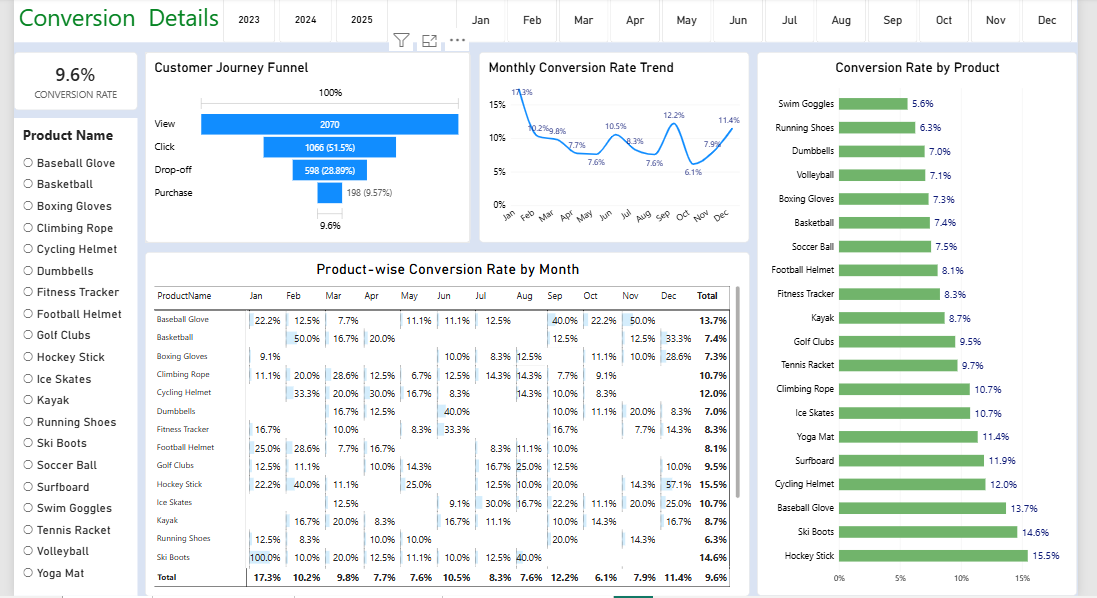

The dashboard page shown, as its layout file describes it:
{"tool":"powerbi","page":{"name":"Conversion Details","canvas":[1920,1080],"ordinal":1},"visuals":[{"type":"shape","box":[0,0,1920,80],"z":0},{"type":"listSlicer","title":"Product Name","fields":{"Values":["dim_products.ProductName"]},"box":[0,217.5,222.5,862.5],"z":1000},{"type":"card","fields":{"Values":["dim_customers.CONVERSION RATE"]},"box":[0,98,222.5,105],"z":2000},{"type":"lineChart","title":"Monthly Conversion Rate Trend","fields":{"Category":["Calendar.MonthNameShort"],"Y":["dim_customers.CONVERSION RATE"]},"box":[840,98,488,344],"z":3000},{"type":"advancedSlicerVisual","fields":{"Values":["Calendar.Year"]},"box":[377.5,0,300,80],"z":4000},{"type":"advancedSlicerVisual","fields":{"Values":["Calendar.MonthNameShort"]},"box":[797.5,0,1122.5,80],"z":5000},{"type":"clusteredBarChart","title":"Conversion Rate by Product","fields":{"Category":["dim_products.ProductName"],"Y":["dim_customers.CONVERSION RATE"]},"box":[1342,98,578,982],"z":6000},{"type":"textbox","box":[0,6,378,74],"z":7000},{"type":"funnel","title":"Customer Journey Funnel","fields":{"Y":["dim_customers.NO. OF JOURNEY"],"Category":["Fact_customer_journey.Action"]},"box":[236,98,588,344],"z":8000},{"type":"pivotTable","title":"Product-wise Conversion Rate by Month","fields":{"Rows":["dim_products.ProductName"],"Columns":["Calendar.MonthNameShort"],"Values":["dim_customers.CONVERSION RATE"]},"box":[236,458,1092,622],"z":9000}]}

Visuals, with their boxes on the page's 1920x1080 design canvas (x1, y1, x2, y2). These are canvas units, not pixel positions in the 1097x598 screenshot, which may show the page scaled, cropped or inside an application window:
shape: 0/0/1920/80
"Product Name" listSlicer: 0/218/222/1080
card - dim_customers.CONVERSION RATE: 0/98/222/203
"Monthly Conversion Rate Trend" lineChart: 840/98/1328/442
advancedSlicerVisual - Calendar.Year: 378/0/678/80
advancedSlicerVisual - Calendar.MonthNameShort: 798/0/1920/80
"Conversion Rate by Product" clusteredBarChart: 1342/98/1920/1080
textbox: 0/6/378/80
"Customer Journey Funnel" funnel: 236/98/824/442
"Product-wise Conversion Rate by Month" pivotTable: 236/458/1328/1080
